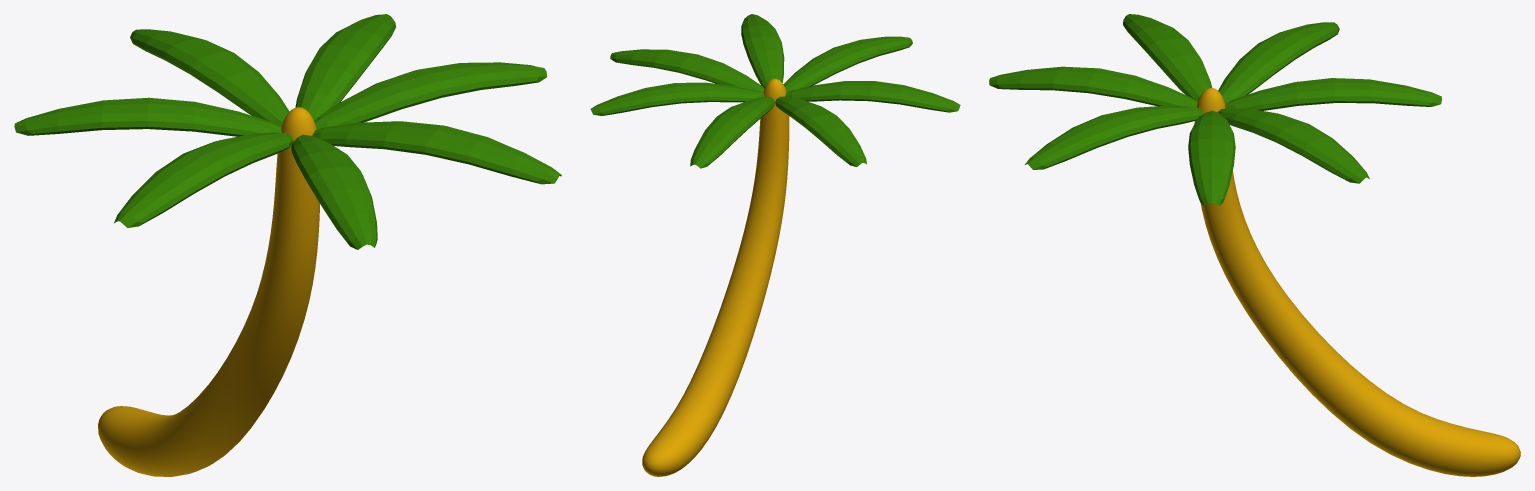
File: Coconut_Tree.fbx
3 views of the same model, side by side, from view 1: azimuth 30°, elevation 25°; view 2: azimuth 150°, elevation 25°; view 3: azimuth 270°, elevation 25° (orthographic). The views are drawn at different scales.
Parts seen in each view (by area): view 1: Cube; view 2: Cube; view 3: Cube.
Part boxes in pixels (<box>): Cube: <box>14,14,561,476</box>; Cube: <box>590,14,960,476</box>; Cube: <box>989,14,1520,476</box>.
Bounding box in the file's own units: 1102 × 1051 × 1309.
